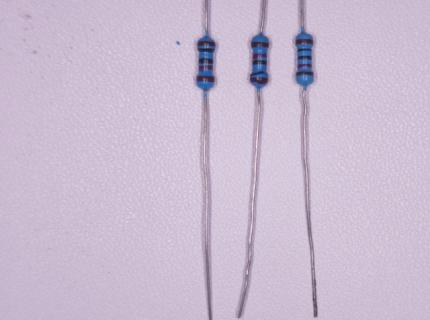Black band: (252, 60, 267, 66), (199, 58, 213, 64), (298, 55, 312, 60), (198, 48, 215, 52), (251, 72, 267, 76), (297, 49, 311, 51)
Brown band: (249, 77, 268, 84), (196, 76, 214, 82), (251, 42, 269, 48), (295, 39, 313, 45), (197, 41, 216, 46), (296, 71, 314, 75)
Red band: (297, 64, 312, 69), (253, 53, 267, 58), (199, 65, 213, 70)
